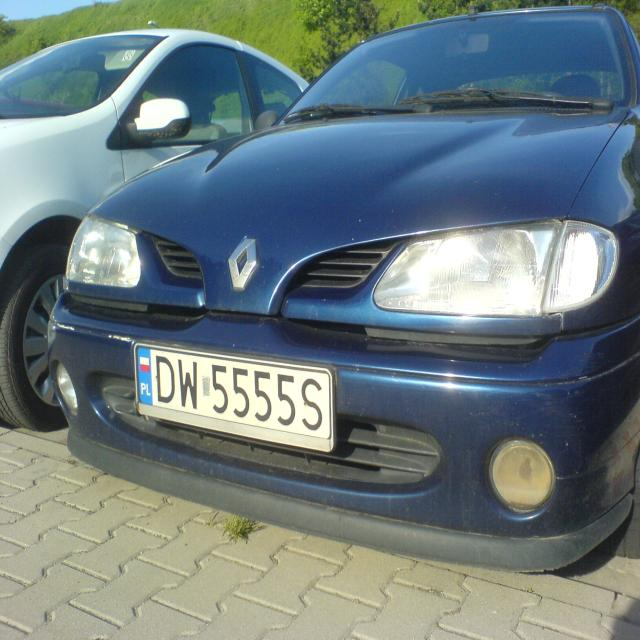pl_license_plate: (133, 341, 334, 451)
